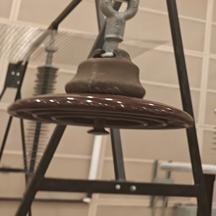insulator: (6, 36, 196, 150)
